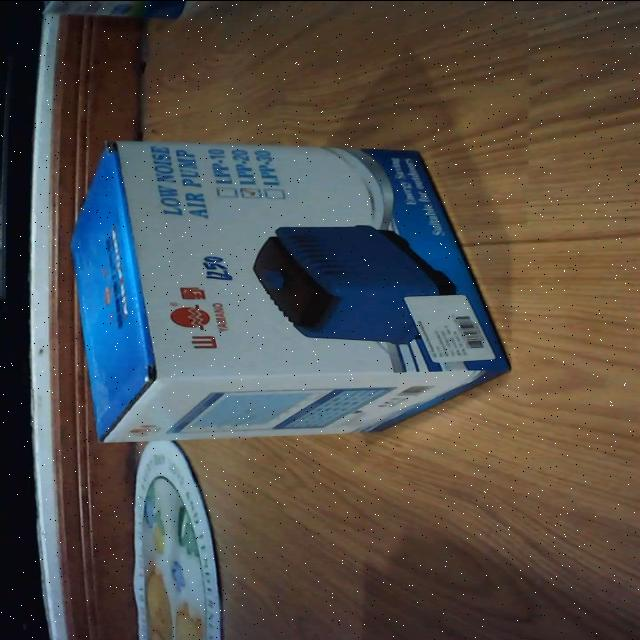YAMANO_LPP_20: (41, 132, 524, 462)
